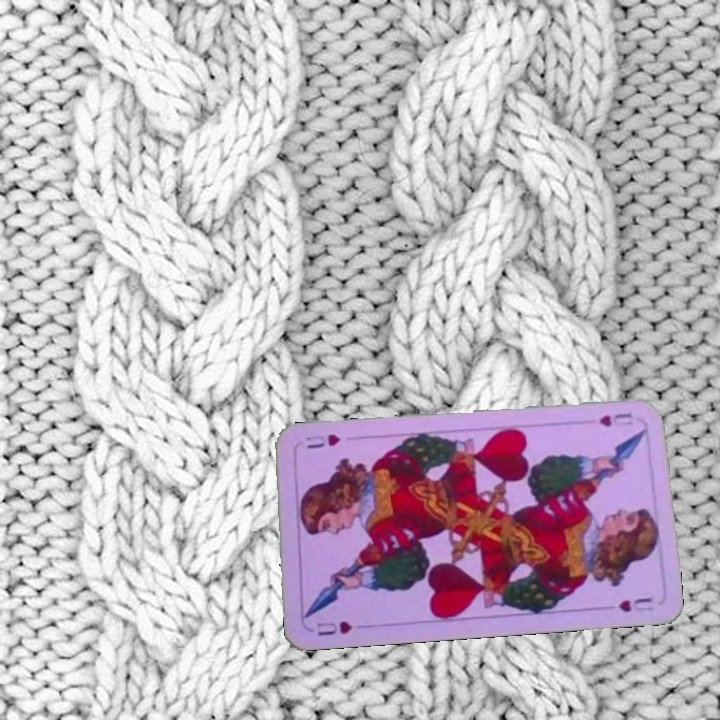HU: (313, 616, 355, 638), (595, 409, 636, 430)
